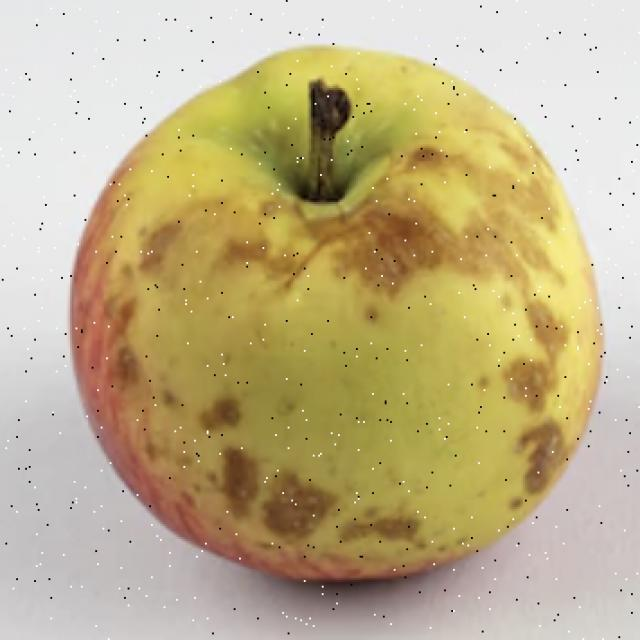Rotten: (85, 51, 570, 572)
